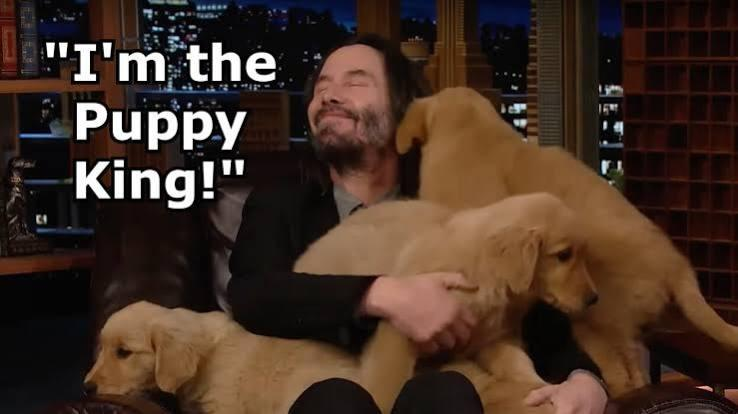non-dog: (224, 32, 614, 414)
puppy-dog: (395, 85, 738, 397), (292, 194, 601, 414), (81, 298, 364, 414)
